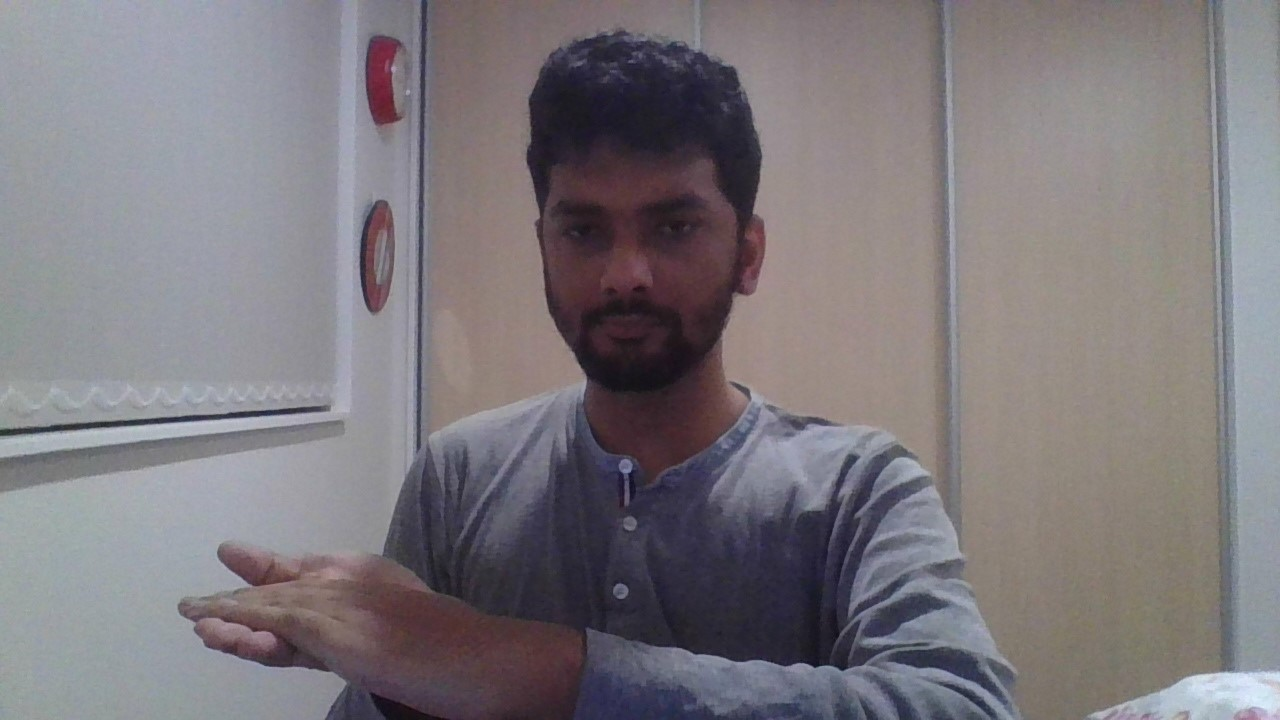clear: (179, 541, 546, 720)
